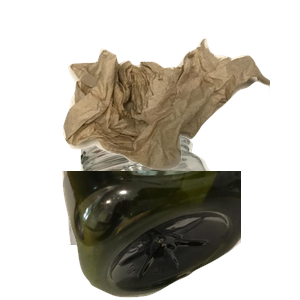glass: (61, 120, 287, 300)
paper: (68, 66, 215, 197)
plastic: (60, 171, 300, 300)
trash: (60, 36, 300, 198)
